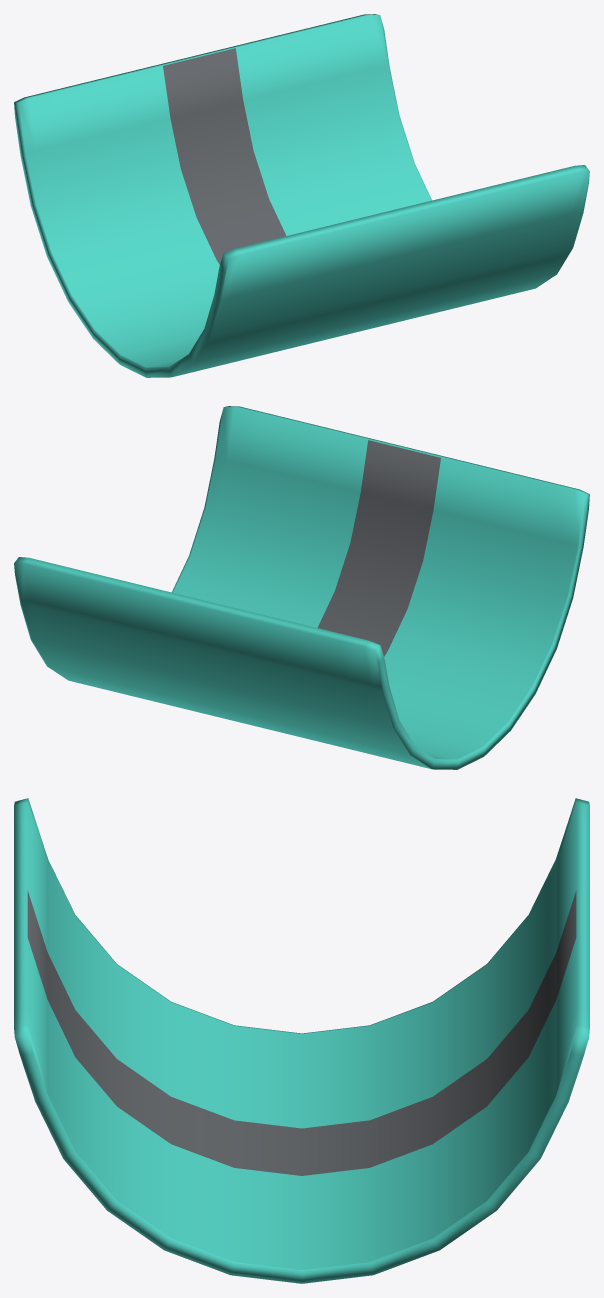
File: SlideGreyStripe.fbx
3 renders of one model, top to bottom at view 1: azimuth 30°, elevation 25°; view 2: azimuth 150°, elevation 25°; view 3: azimuth 270°, elevation 25°, orthographic. The views are drawn at different scales.
Parts seen in each view (by area): view 1: Slide 1; view 2: Slide 1; view 3: Slide 1.
Part boxes in pixels (box(x1,y1,x2,y2)): Slide 1: box(14, 14, 589, 377); Slide 1: box(14, 406, 589, 769); Slide 1: box(14, 798, 589, 1283).
Size of the model in its own units: 401 by 197 by 410.
